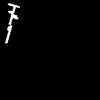double_crochet: (5, 4, 18, 42)
